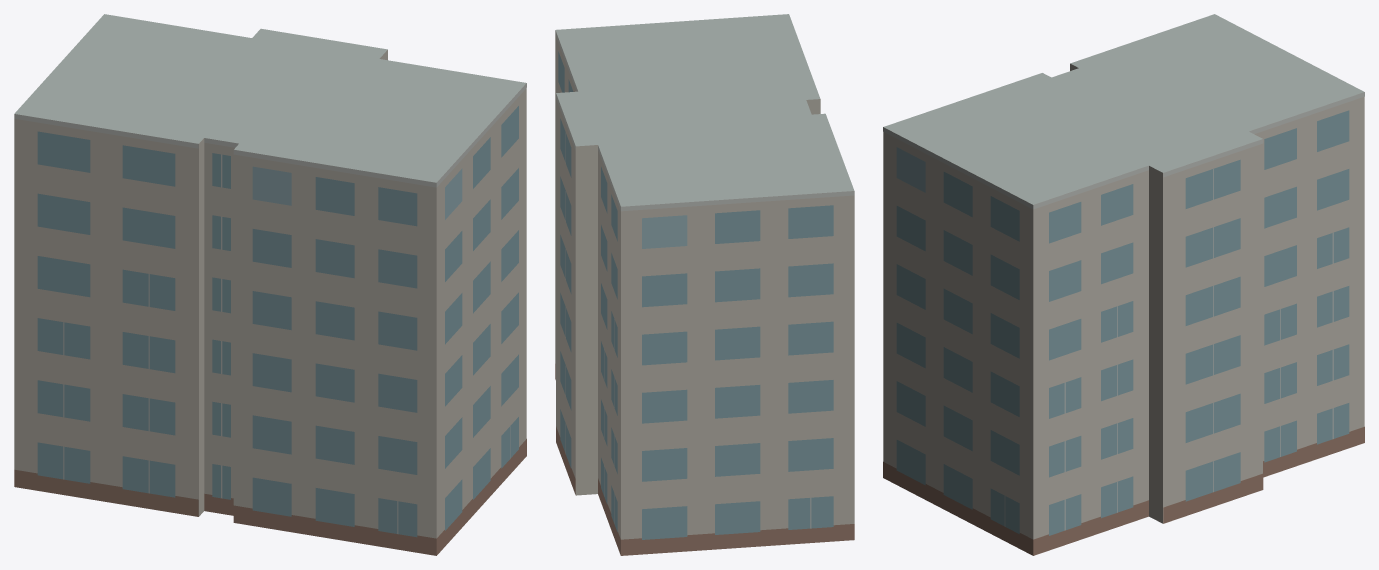
Rendered from survey-upis-33024244.glb.
3 views of the same model, side by side, from view 1: azimuth 30°, elevation 25°; view 2: azimuth 150°, elevation 25°; view 3: azimuth 270°, elevation 25° (orthographic). The views are drawn at different scales.
Parts seen in each view (by area): view 1: survey-upis-33024244.tmp; view 2: survey-upis-33024244.tmp; view 3: survey-upis-33024244.tmp.
Part boxes in pixels (<box>): survey-upis-33024244.tmp: <box>14,14,526,555</box>; survey-upis-33024244.tmp: <box>555,14,854,555</box>; survey-upis-33024244.tmp: <box>883,14,1364,555</box>.
Bounding box in the file's own units: 21.95 × 18.8 × 23.39.
